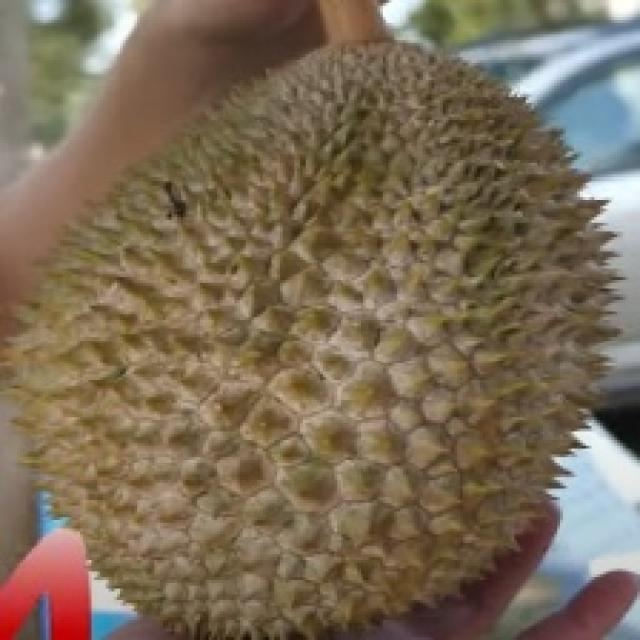d175: (10, 36, 598, 630)
